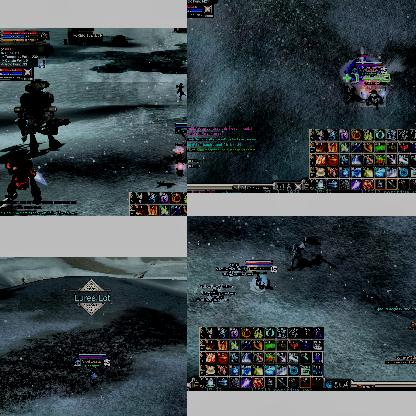caliana: (285, 237, 321, 271), (360, 89, 386, 107), (344, 83, 358, 103), (176, 83, 187, 101), (38, 56, 46, 68), (20, 278, 26, 284)
